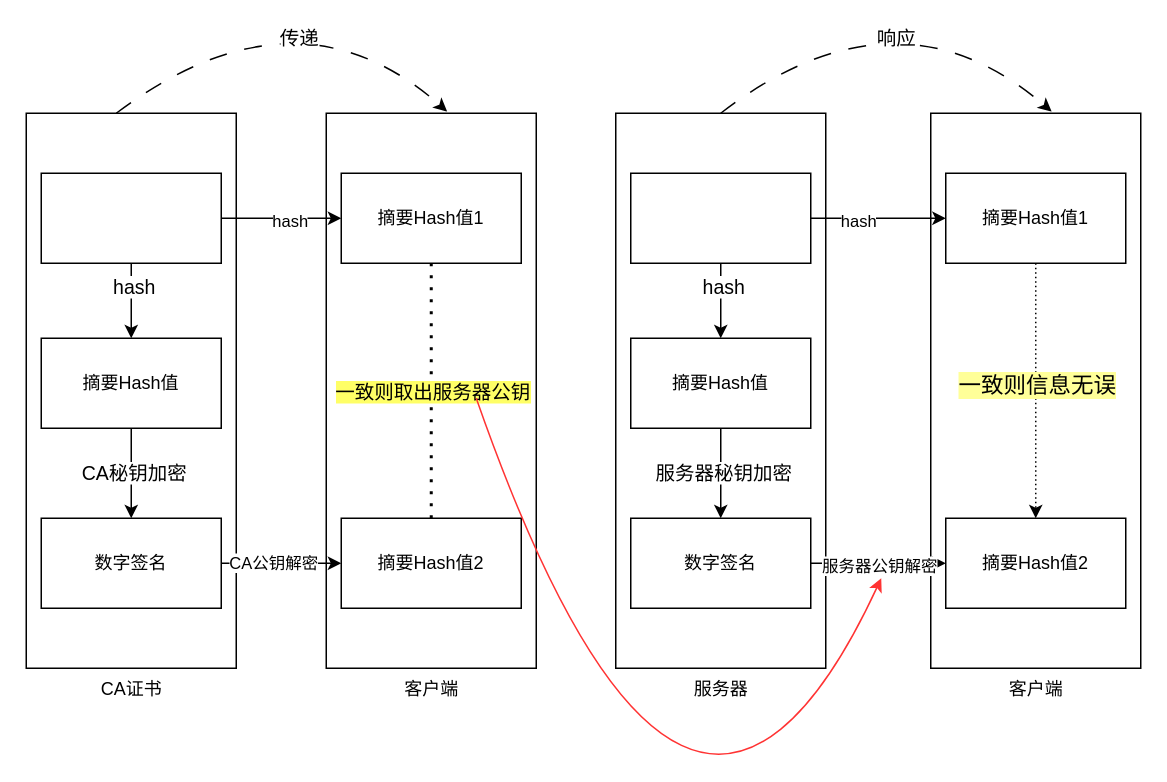
The diagram is 1167 pixels wide and 782 high, and some of its shapes have lost their labels. Each missing label, with the centre of its shape:
响应信息: [720,217]
服务器公钥+其他信息: [130,217]
